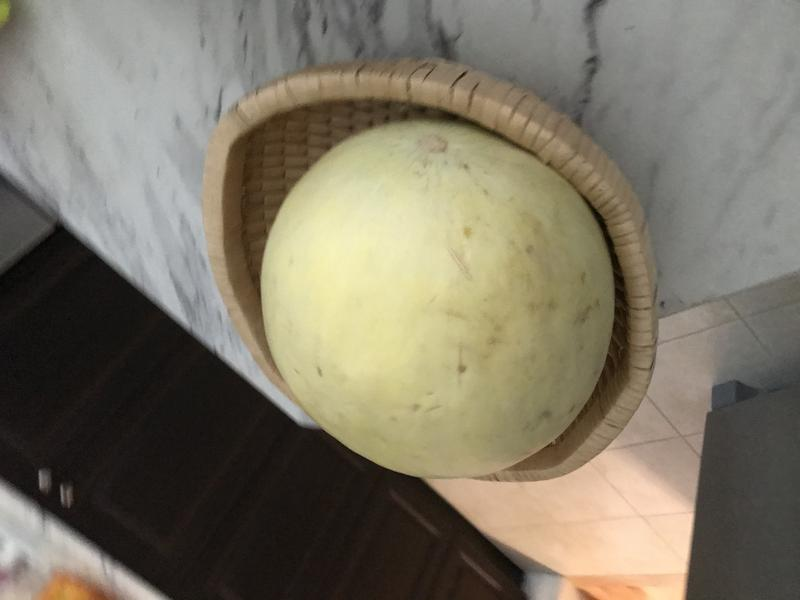honeydew: (242, 108, 631, 491)
